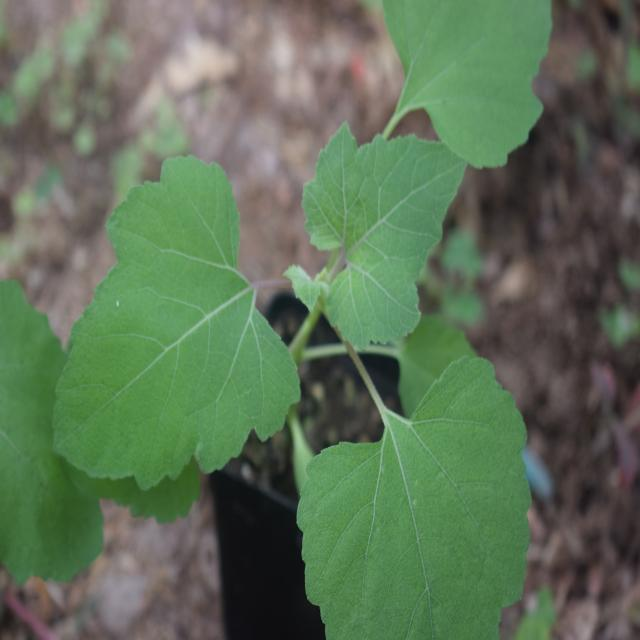cocklebur: (95, 9, 566, 612)
